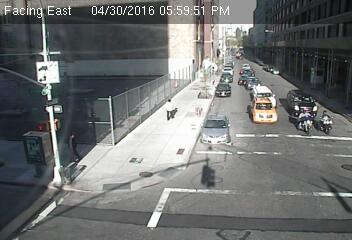neg: (83, 83, 124, 137), (185, 152, 221, 200), (238, 29, 269, 71), (29, 66, 60, 107), (132, 143, 161, 183), (22, 124, 51, 163), (254, 156, 283, 194), (113, 30, 141, 67), (308, 61, 333, 95), (81, 179, 105, 212), (246, 90, 266, 117), (294, 107, 314, 132), (198, 80, 216, 105), (320, 106, 337, 129), (195, 36, 212, 58)
pos: (160, 95, 177, 119)
